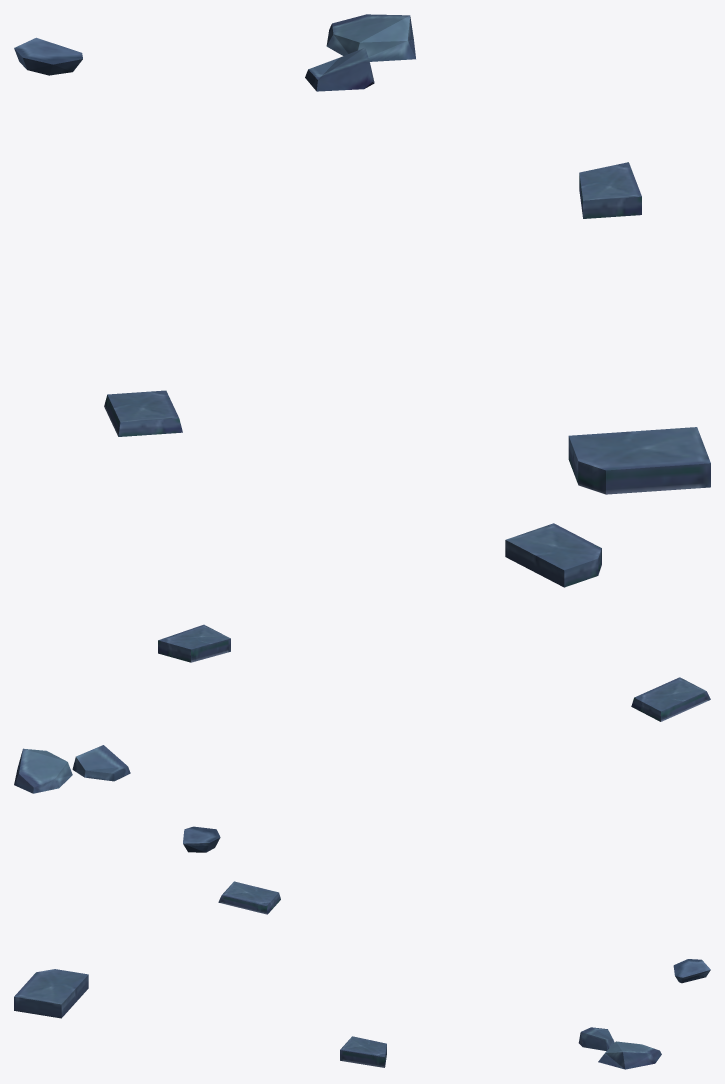
Rendered from Area06_21.fbx.
The picture shows the model from 3 angles, top to bottom: view 1: azimuth 30°, elevation 25°; view 2: azimuth 150°, elevation 25°; view 3: azimuth 270°, elevation 25°; orthographic projection. The views are drawn at different scales.
Visible parts, largest first — view 1: Area06_21; view 2: Area06_21; view 3: Area06_21.
Boxes of the visible parts, x1=… form: Area06_21: x1=14, y1=14, x2=710, y2=494; Area06_21: x1=14, y1=523, x2=710, y2=852; Area06_21: x1=14, y1=881, x2=710, y2=1069.
Bounding box in the file's own units: 1138 × 62.26 × 1832.
Materials: 1 (1 with a texture image).
